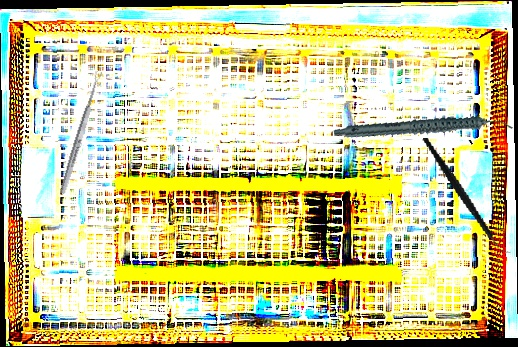Chopper: (421, 124, 513, 267)
Handpiece: (332, 90, 515, 167)
Surgical Spoon: (58, 70, 104, 195)
